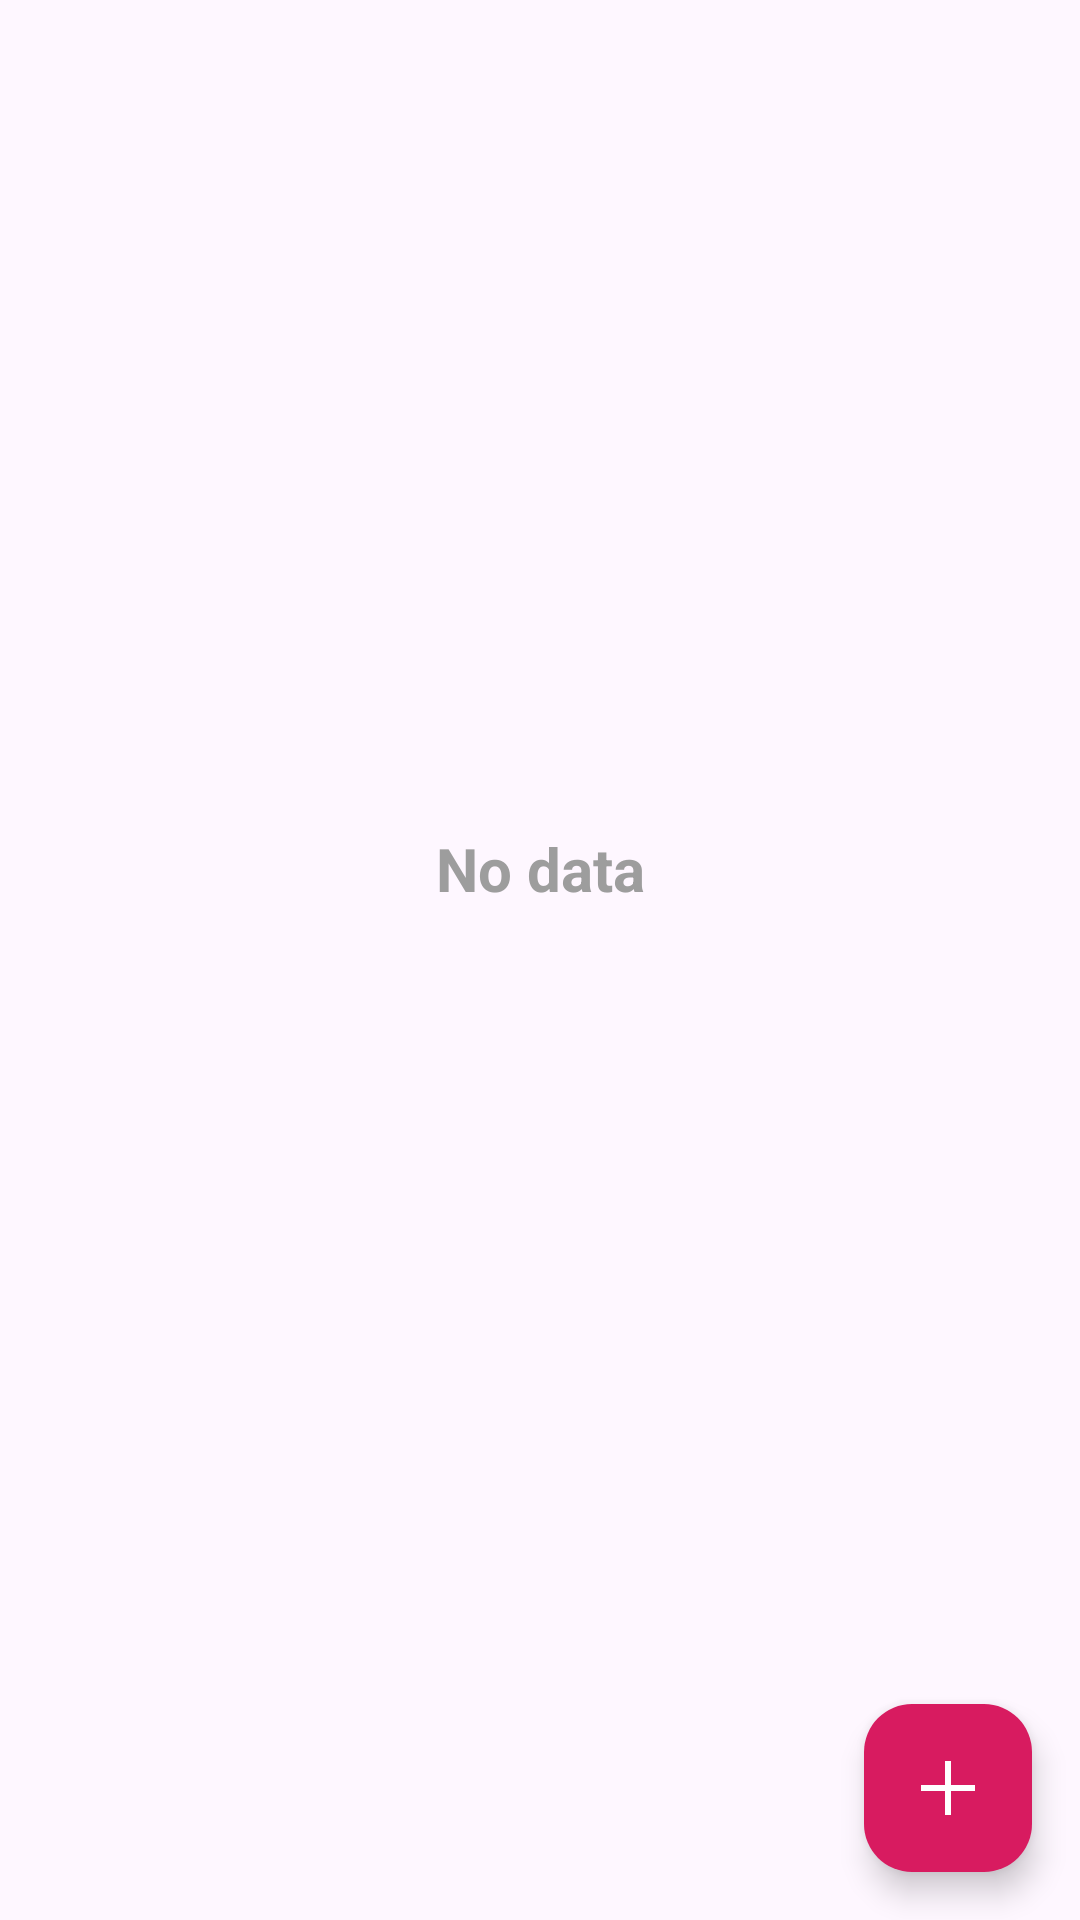

Icon bounding boxes for this 1080w x 1920h phone screenshot, format [x1,y1,x2,y2]:
Adds new remainder location: [864,1704,1032,1872]
